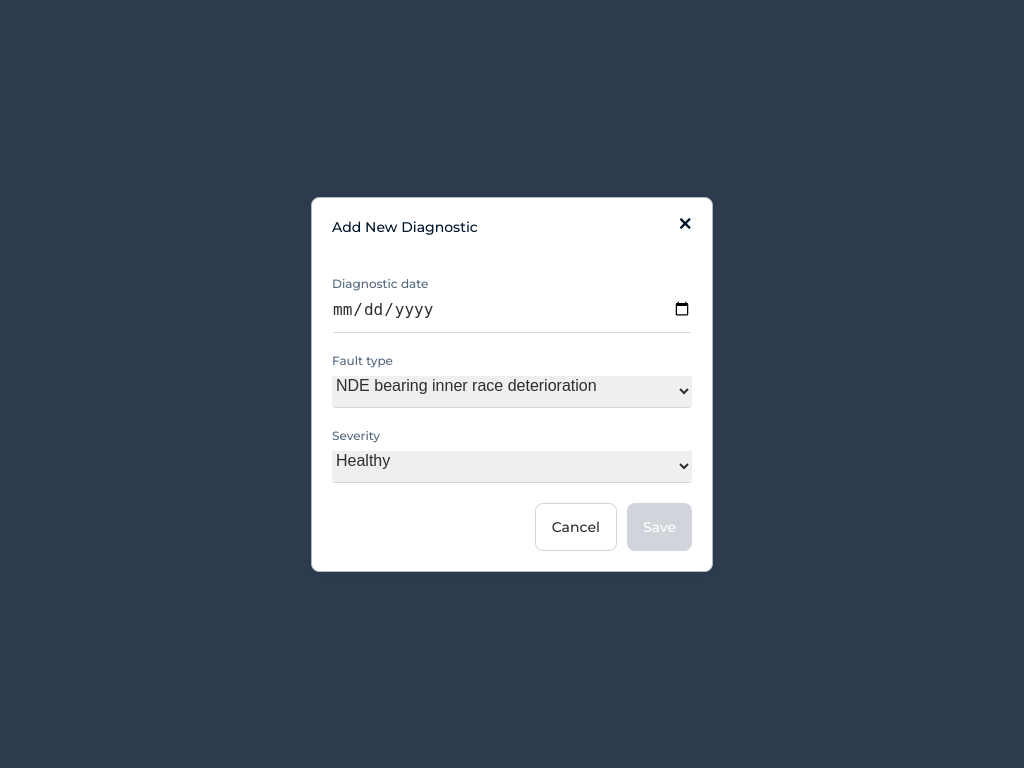
it: AddDiagnosticModal › enables the save button if the date is set
This screenshot has width=1024, height=768.
Type "2024-05-01" into the date field labelled "Diagnostic date".
click(518, 315); type("2024-05-01")  # box [332,298,704,332]
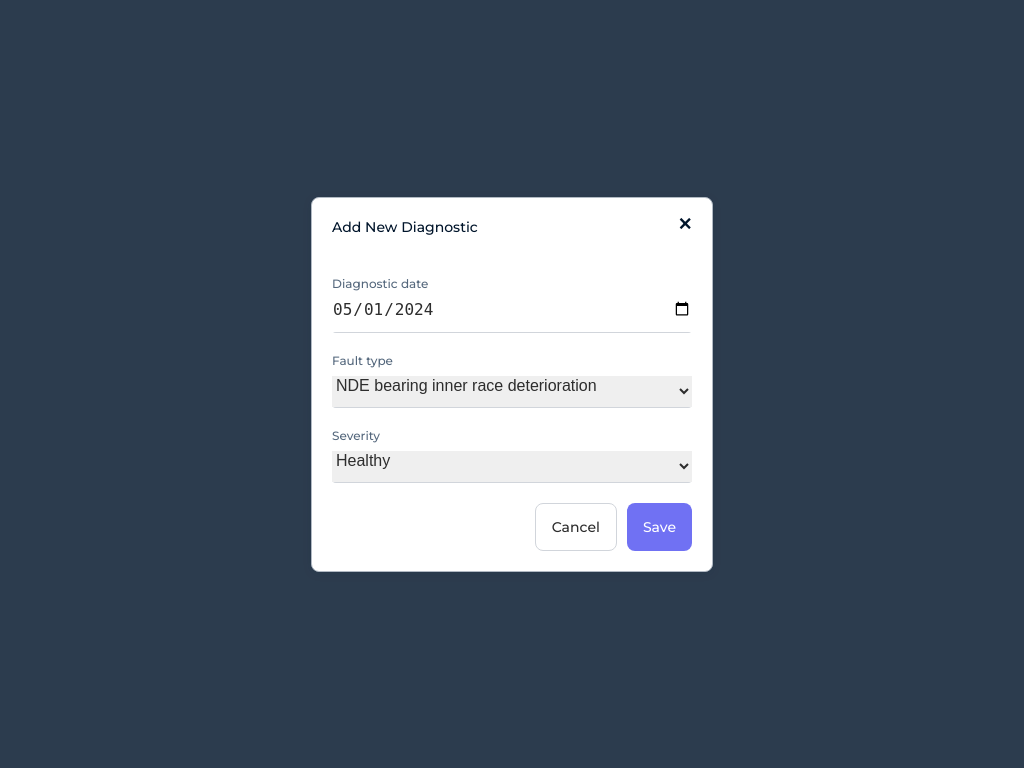
Now the button "Save" is enabled, box [627,502,692,550]
